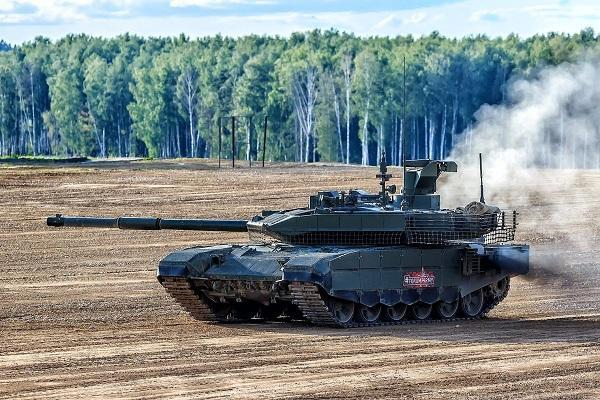tank: (46, 151, 531, 329)
